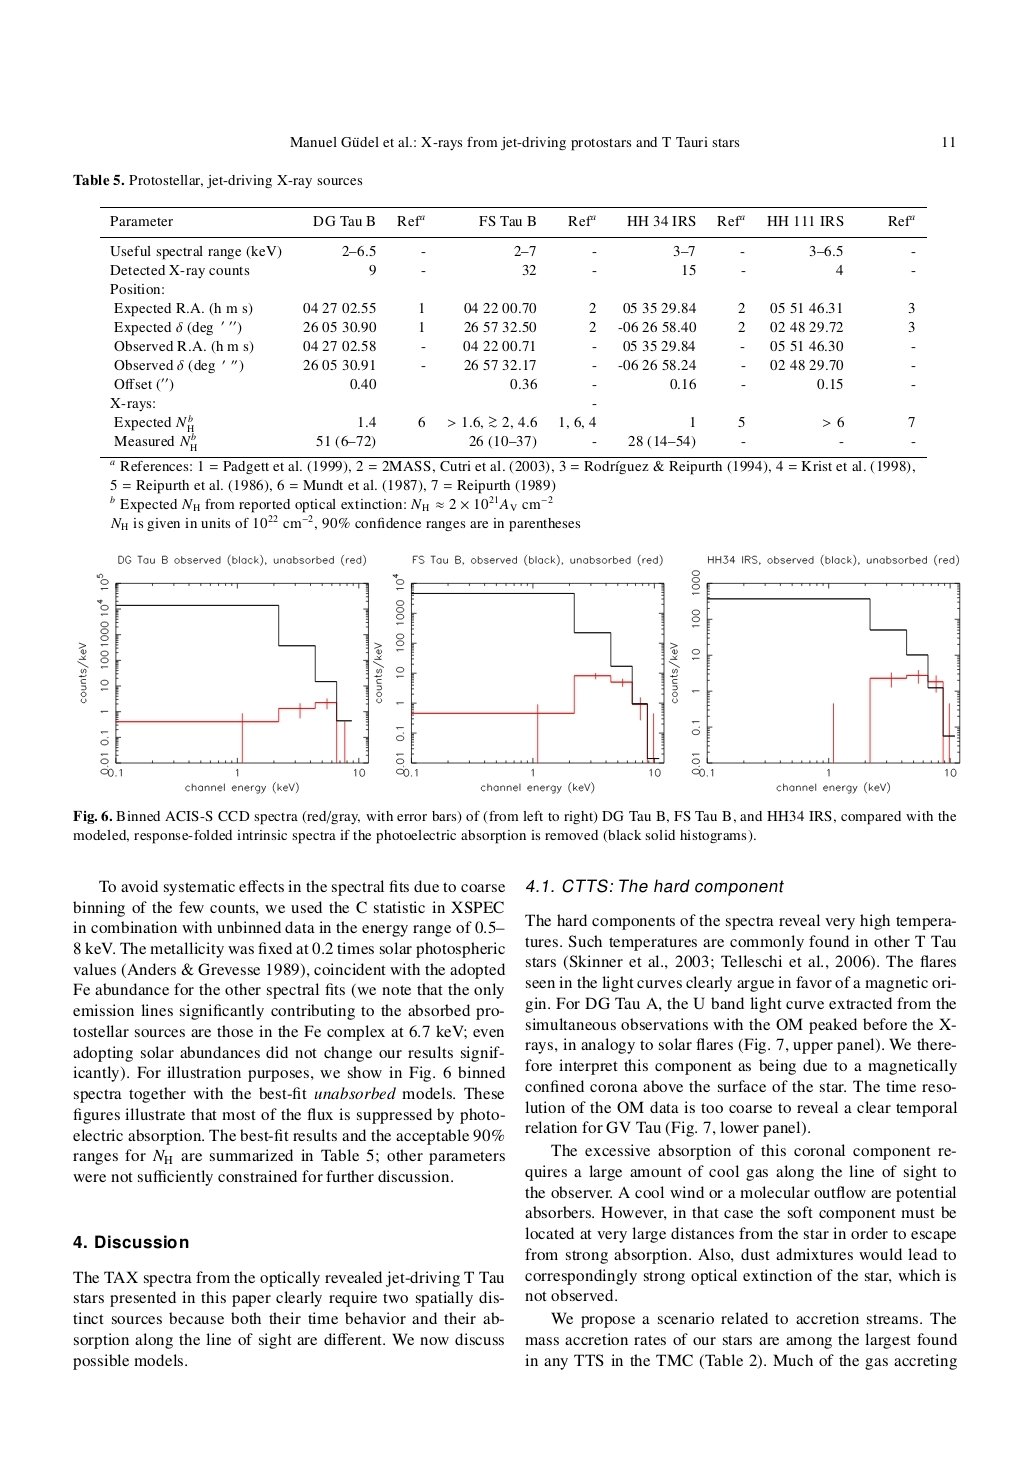Table: (100, 207, 926, 450)
figure: (668, 570, 960, 776), (77, 573, 368, 776), (373, 574, 664, 776)
